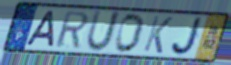A: (24, 10, 57, 49)
J: (170, 16, 205, 57)
K: (141, 14, 174, 55)
O: (113, 12, 147, 54)
R: (54, 11, 91, 50)
U: (84, 9, 123, 54)
